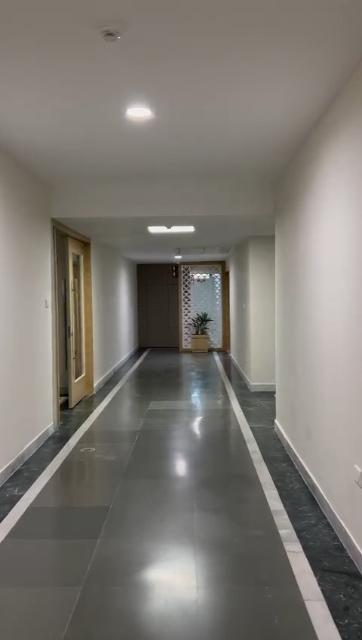door: (59, 235, 91, 415)
floor: (0, 344, 362, 640)
object: (190, 310, 212, 354)
wall: (228, 43, 362, 546), (0, 154, 55, 481), (95, 246, 140, 383)
